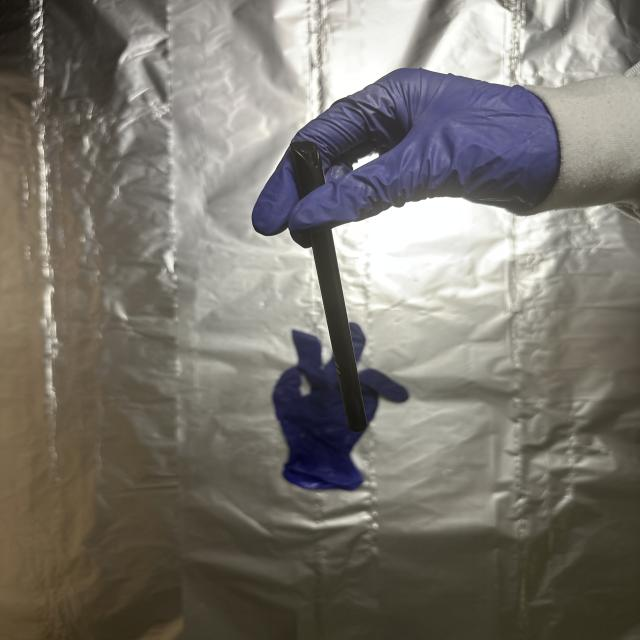gloves_contaminated: (252, 68, 560, 247)
